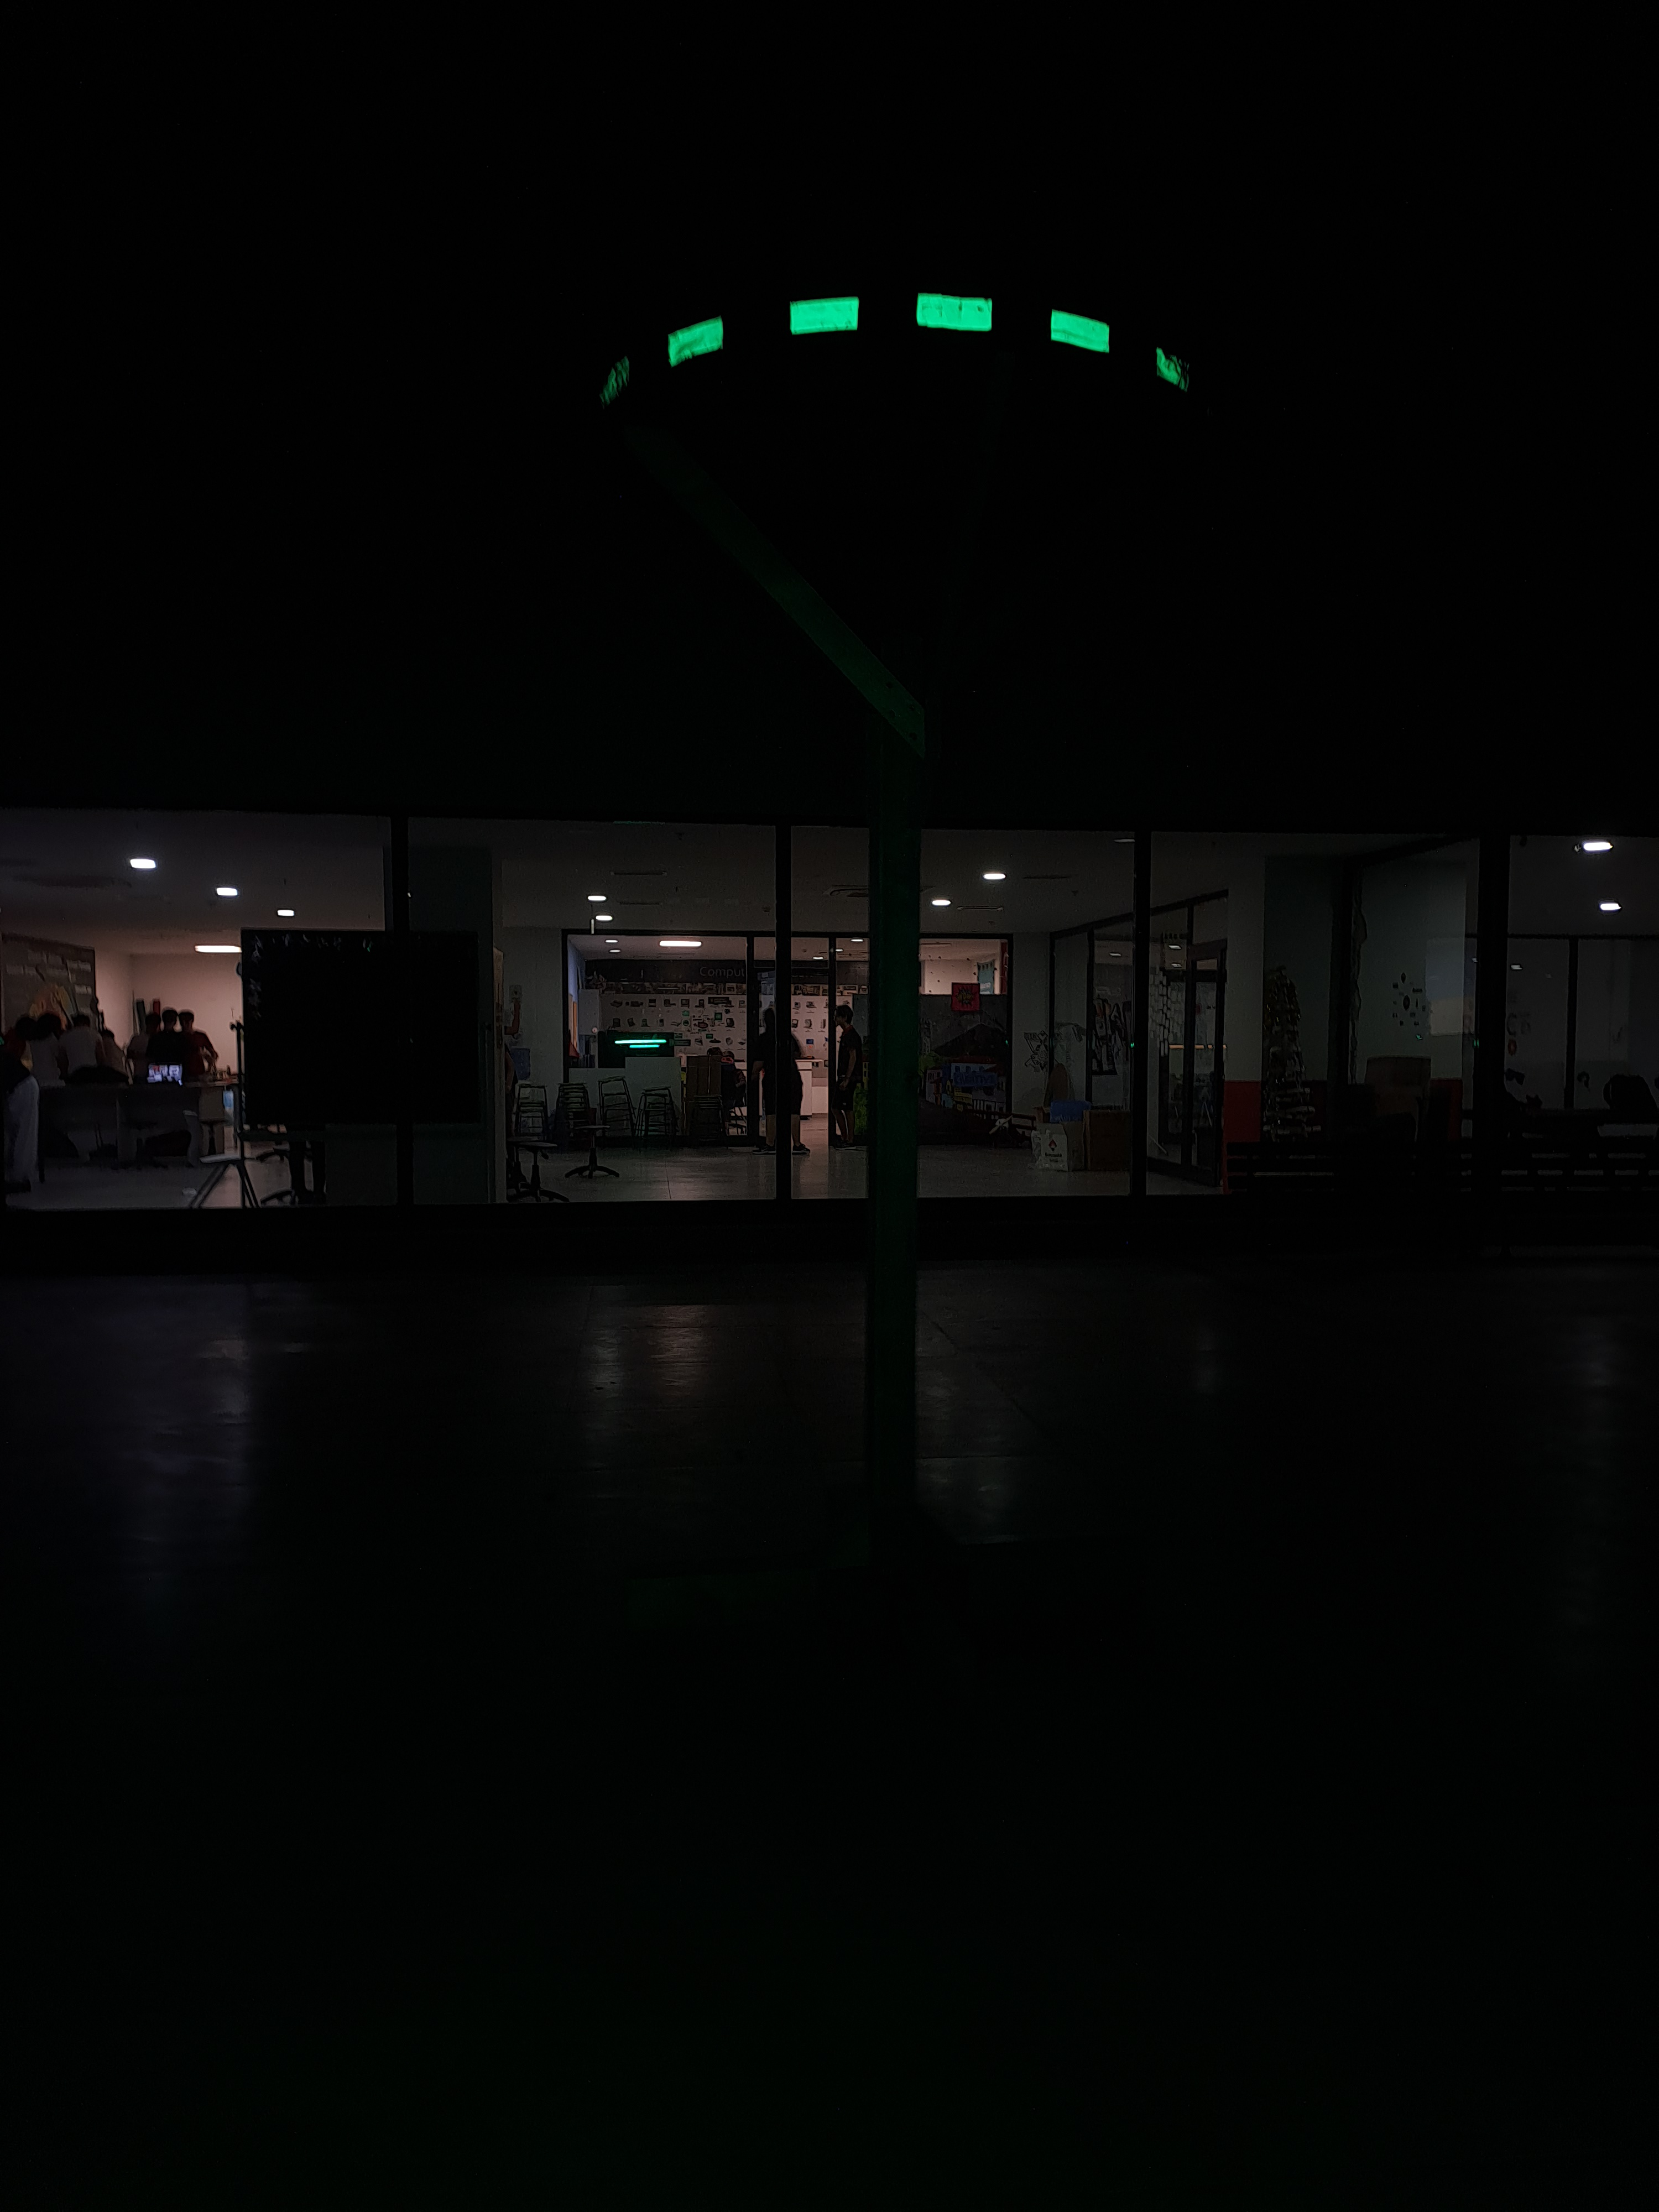hoop: (606, 289, 1190, 409)
